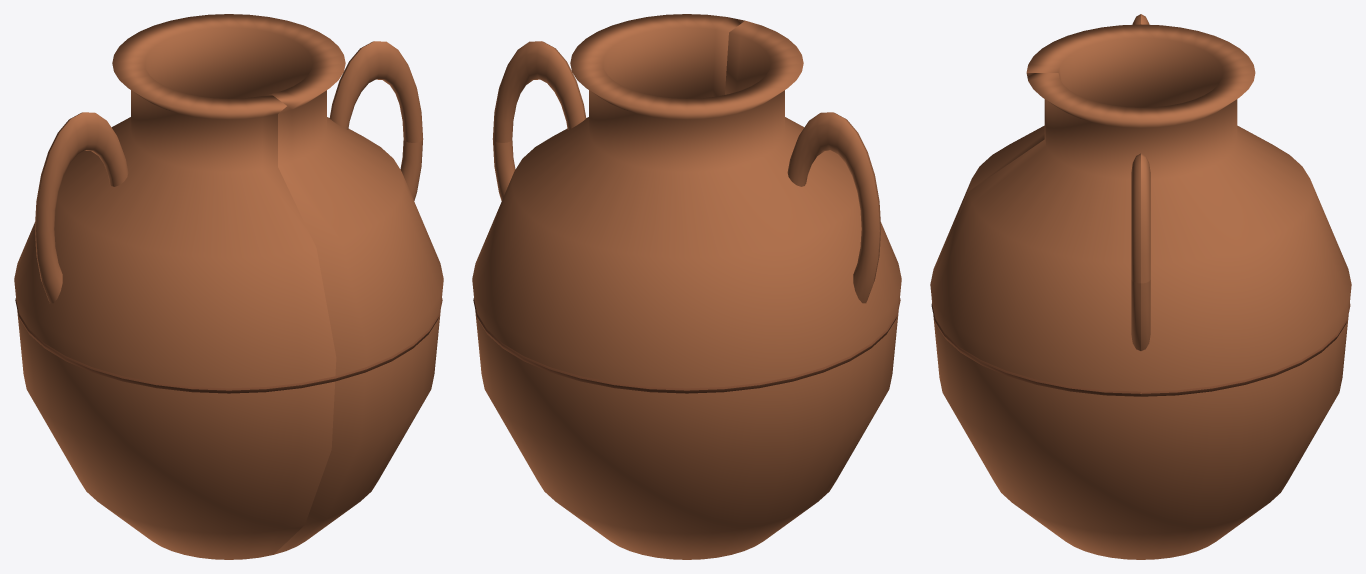
3 renders of one model, left to right at view 1: azimuth 30°, elevation 25°; view 2: azimuth 150°, elevation 25°; view 3: azimuth 270°, elevation 25°, orthographic.
Visible parts, largest first — view 1: OBJ-007 — DEMO NON_VALIDE; view 2: OBJ-007 — DEMO NON_VALIDE; view 3: OBJ-007 — DEMO NON_VALIDE.
Boxes of the visible parts, bbox=[...] form: OBJ-007 — DEMO NON_VALIDE: bbox=[14, 14, 443, 559]; OBJ-007 — DEMO NON_VALIDE: bbox=[472, 14, 901, 559]; OBJ-007 — DEMO NON_VALIDE: bbox=[930, 14, 1351, 559].
Bounding box in the file's own units: 1.72 × 2 × 1.66.
